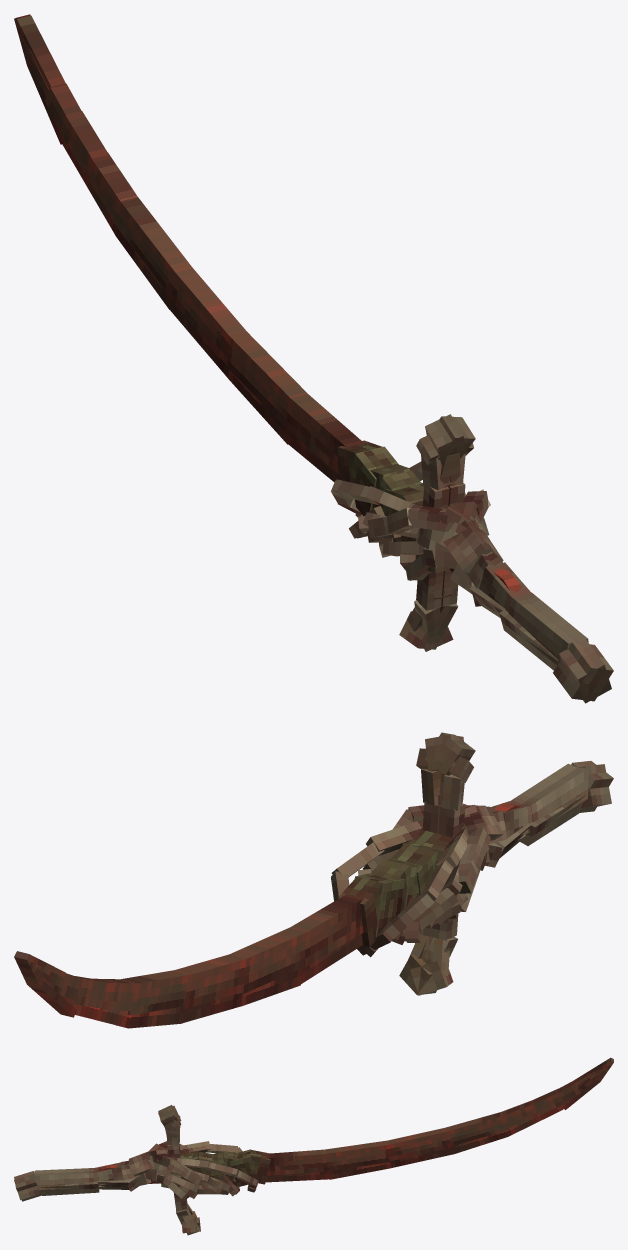
File: air_tachi.glb
3 renders of one model, top to bottom at view 1: azimuth 30°, elevation 25°; view 2: azimuth 150°, elevation 25°; view 3: azimuth 270°, elevation 25°, orthographic. The views are drawn at different scales.
Parts seen in each view (by area): view 1: main__Tool_R, off__Tool_L; view 2: main__Tool_R, off__Tool_L; view 3: off__Tool_L, main__Tool_R.
Boxes of the visible parts, left/top/right/bottom form: main__Tool_R: left=14, top=15, right=611, bottom=703; off__Tool_L: left=24, top=14, right=613, bottom=701; main__Tool_R: left=20, top=732, right=613, bottom=1028; off__Tool_L: left=14, top=734, right=611, bottom=1026; off__Tool_L: left=14, top=1059, right=613, bottom=1235; main__Tool_R: left=14, top=1057, right=613, bottom=1233.
Size of the model in its own units: 0.2072 by 0.6338 by 1.97.
Materials: 1 (1 with a texture image).
